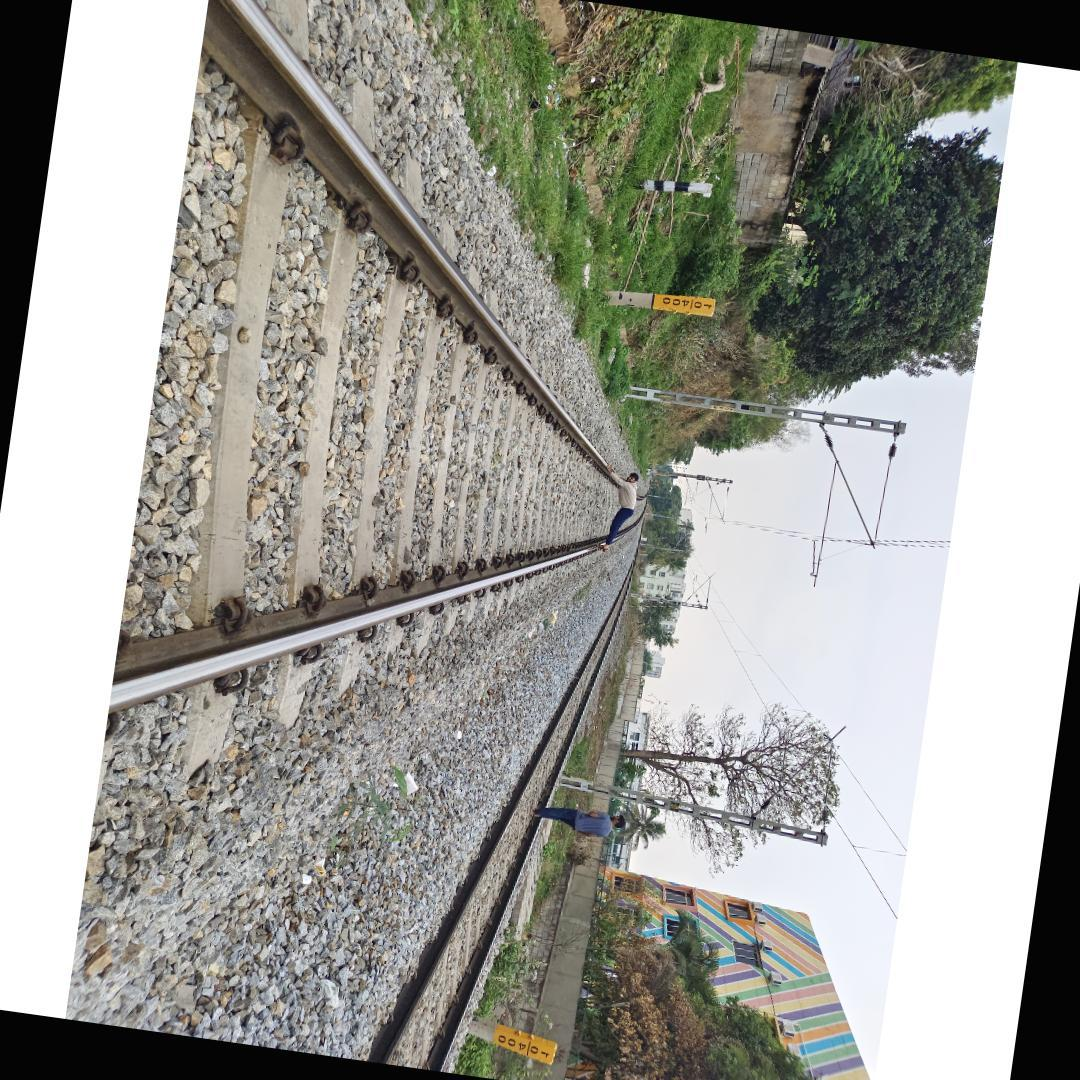sleeping: (596, 468, 640, 555)
standing: (528, 800, 628, 842)
track: (89, 0, 653, 842), (302, 560, 634, 1073)
